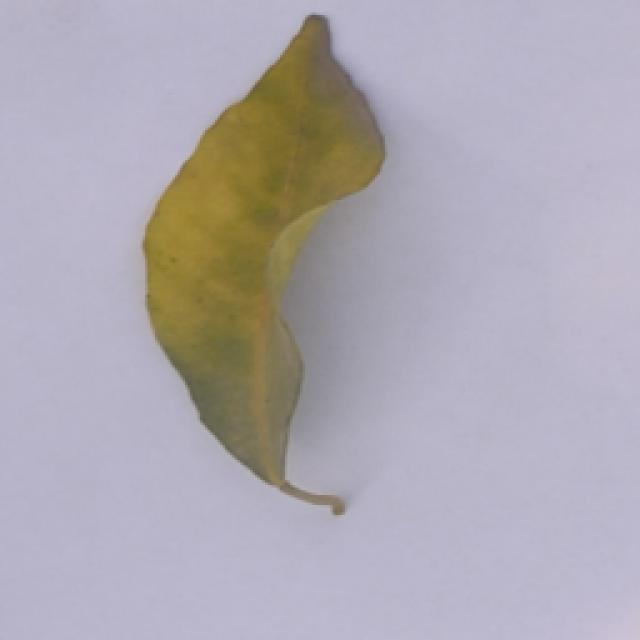greening: (128, 9, 403, 554)
